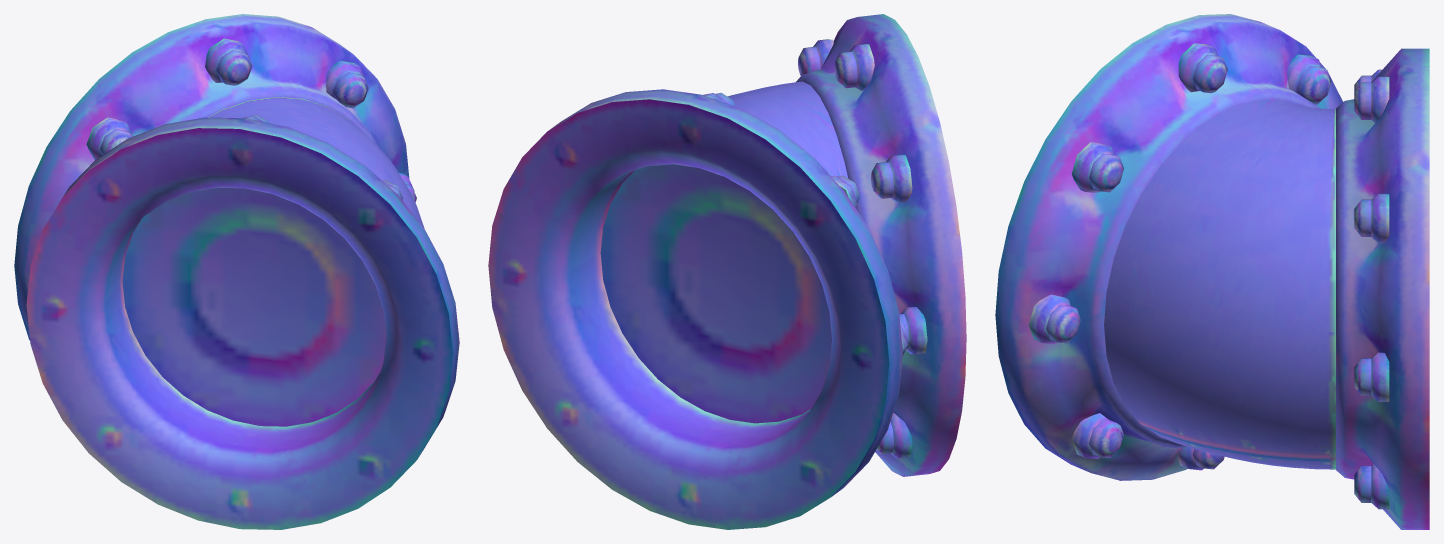
The model's file is Pipe_D160_A_Angled_100_A.fbx.
3 renders of one model, left to right at view 1: azimuth 30°, elevation 25°; view 2: azimuth 150°, elevation 25°; view 3: azimuth 270°, elevation 25°, orthographic. The views are drawn at different scales.
Parts seen in each view (by area): view 1: Geom_Pipe_D160_A_Angled_100_A_LOD00; view 2: Geom_Pipe_D160_A_Angled_100_A_LOD00; view 3: Geom_Pipe_D160_A_Angled_100_A_LOD00.
Part boxes in pixels (x1,y1,x2,y2): Geom_Pipe_D160_A_Angled_100_A_LOD00: [14, 14, 459, 529]; Geom_Pipe_D160_A_Angled_100_A_LOD00: [488, 14, 966, 529]; Geom_Pipe_D160_A_Angled_100_A_LOD00: [995, 14, 1429, 529].
Size of what is drawn, in the model's own units: 178 by 148 by 165.
